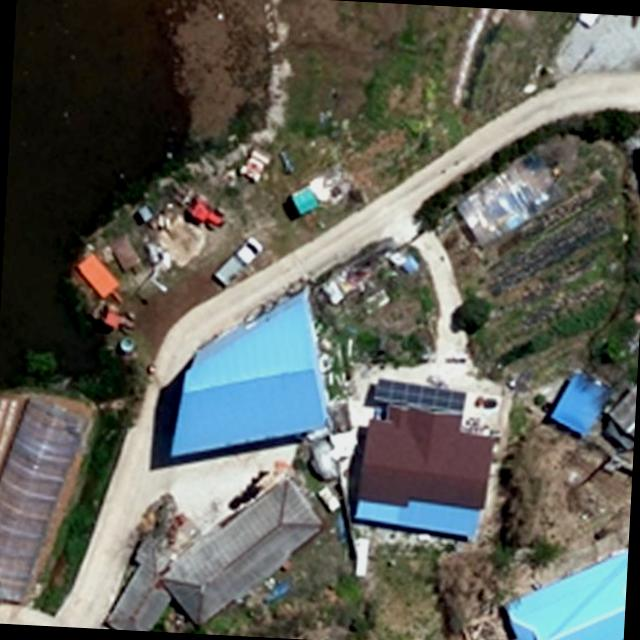solar: (369, 375, 469, 417)
